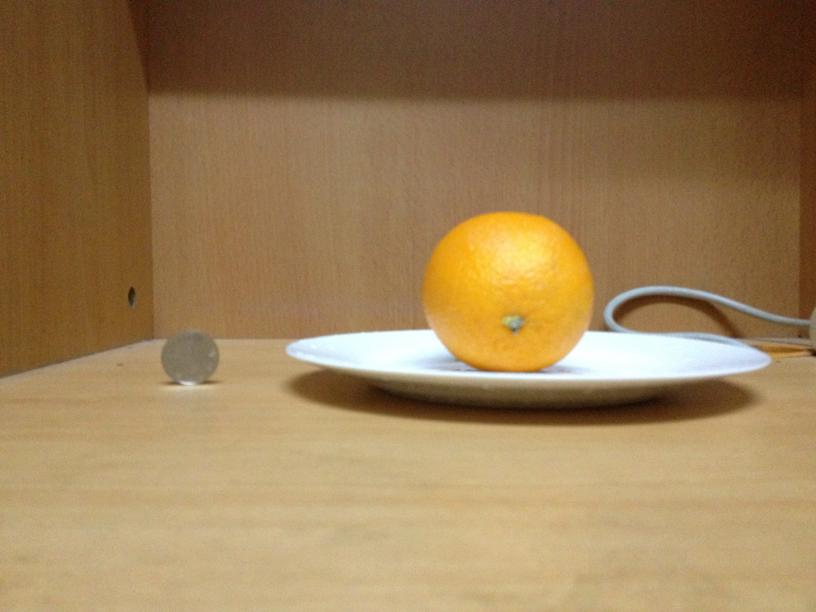coin: (159, 329, 217, 386)
orange: (421, 212, 593, 372)
